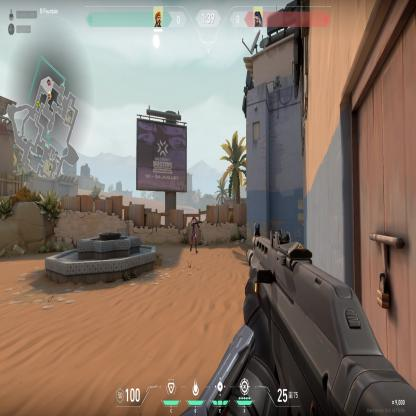enemy: (190, 216, 198, 255)
